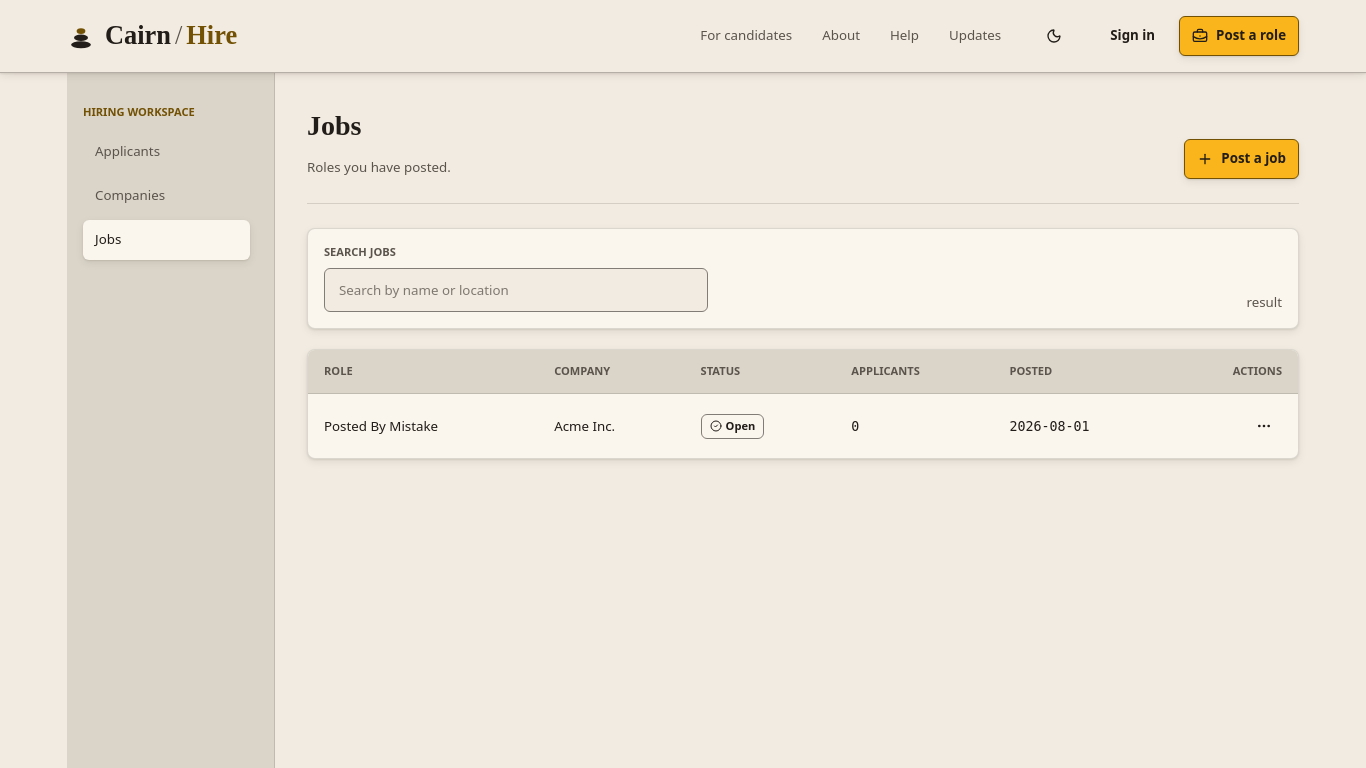
Test case: the job lifecycle in the workspace › asks before deleting, and names what will be deleted
Click the button named "Actions for Posted By Mistake" at x=1264, y=426, box 1246,408 -> 1282,444
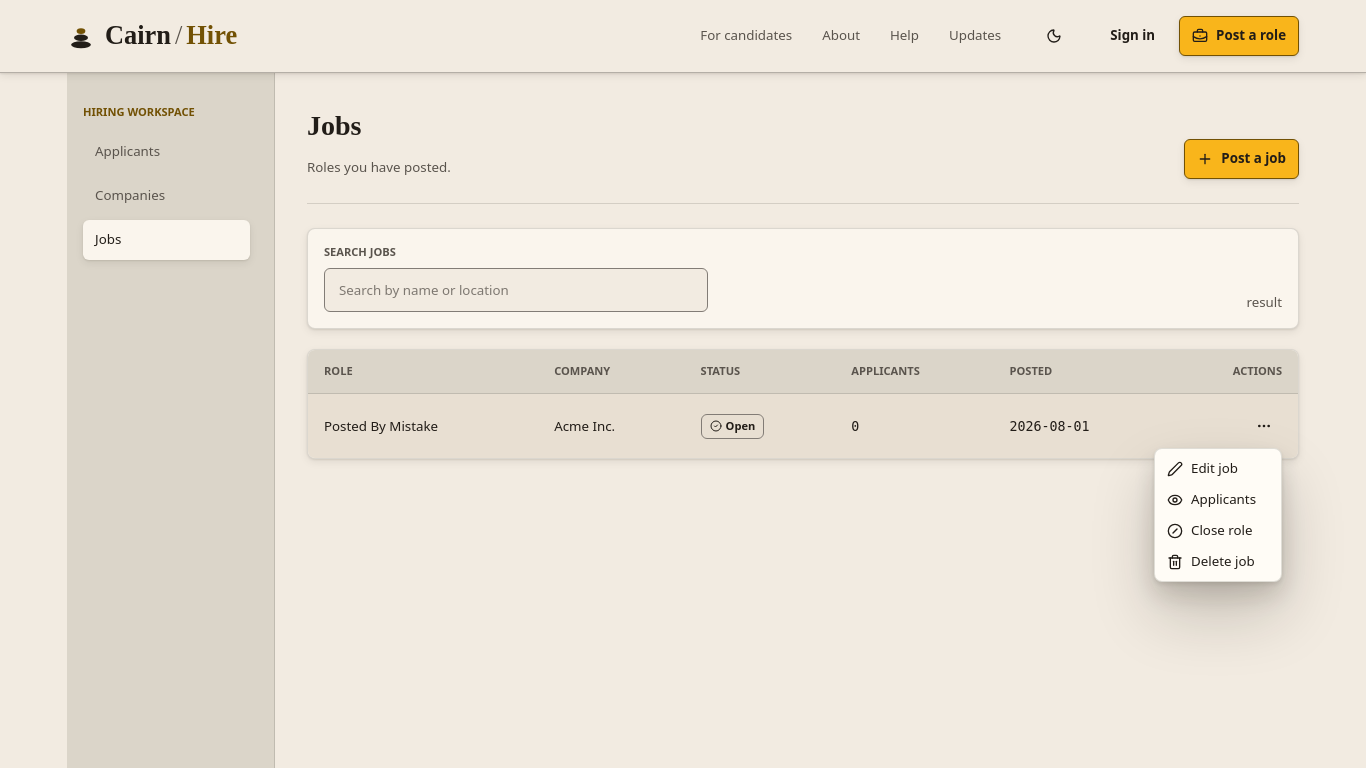
Click the menu item with aria-label "delete Posted By Mistake" at x=1211, y=561, box 1167,552 -> 1255,570
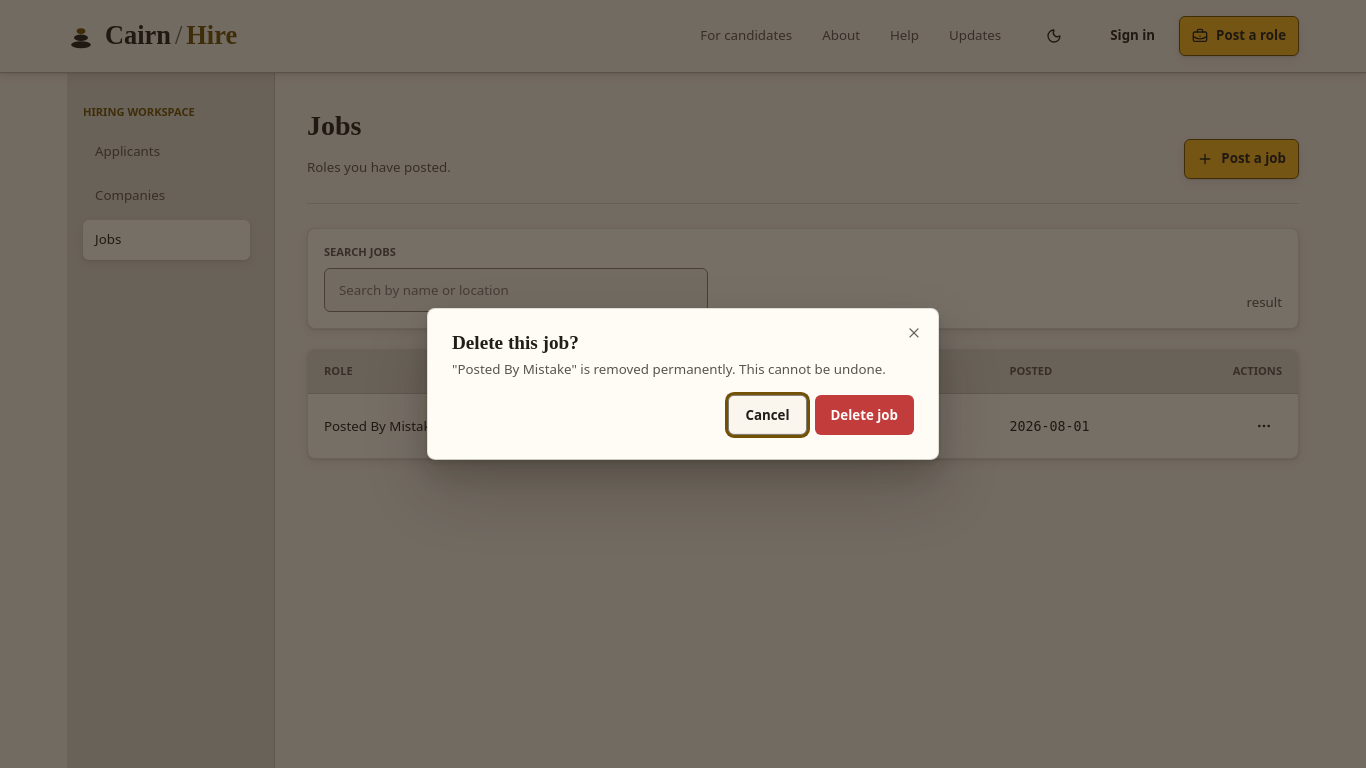
Expected: the dialog shows "Posted By Mistake", 452,360 -> 886,378
Expected: the dialog shows "cannot be undone", 452,360 -> 886,378
Expected: the button "Cancel" is shown, 728,395 -> 806,435
